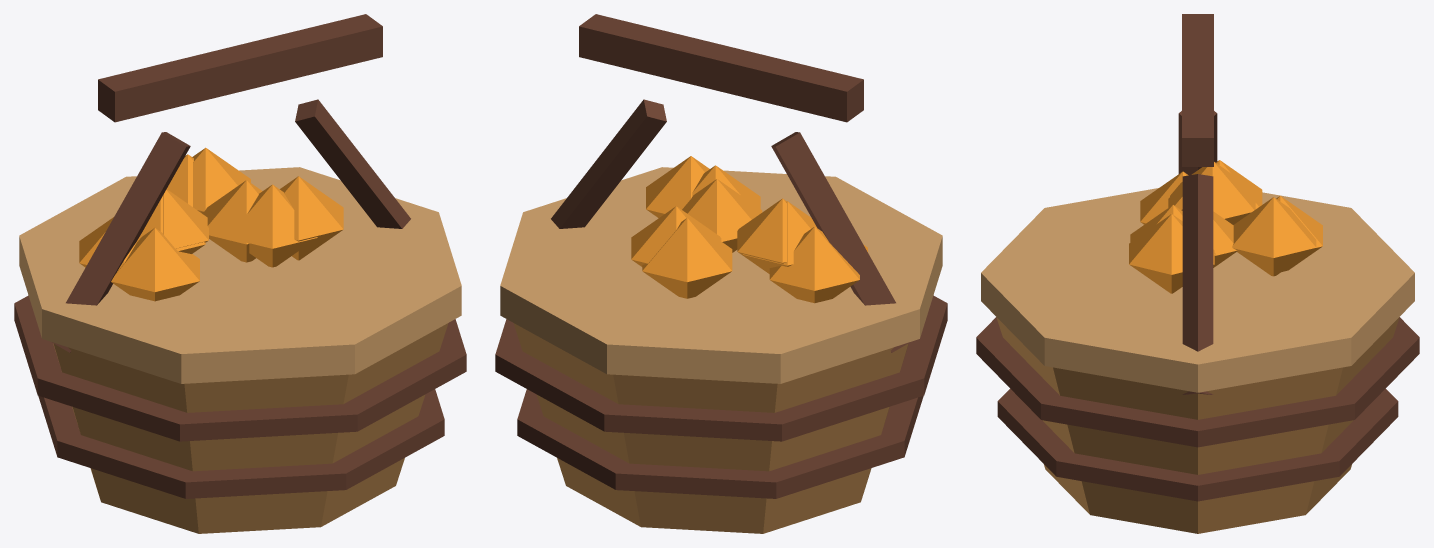
Rendered from Basket_Orange.fbx.
3 renders of one model, left to right at view 1: azimuth 30°, elevation 25°; view 2: azimuth 150°, elevation 25°; view 3: azimuth 270°, elevation 25°, orthographic. The views are drawn at different scales.
Parts seen in each view (by area): view 1: Basket_Orange; view 2: Basket_Orange; view 3: Basket_Orange.
Part boxes in pixels (box(x1,y1,x2,y2)): Basket_Orange: box(14, 14, 466, 533); Basket_Orange: box(495, 14, 947, 533); Basket_Orange: box(976, 14, 1419, 533).
Size of the model in its own units: 0.7638 by 0.7476 by 0.7638.
